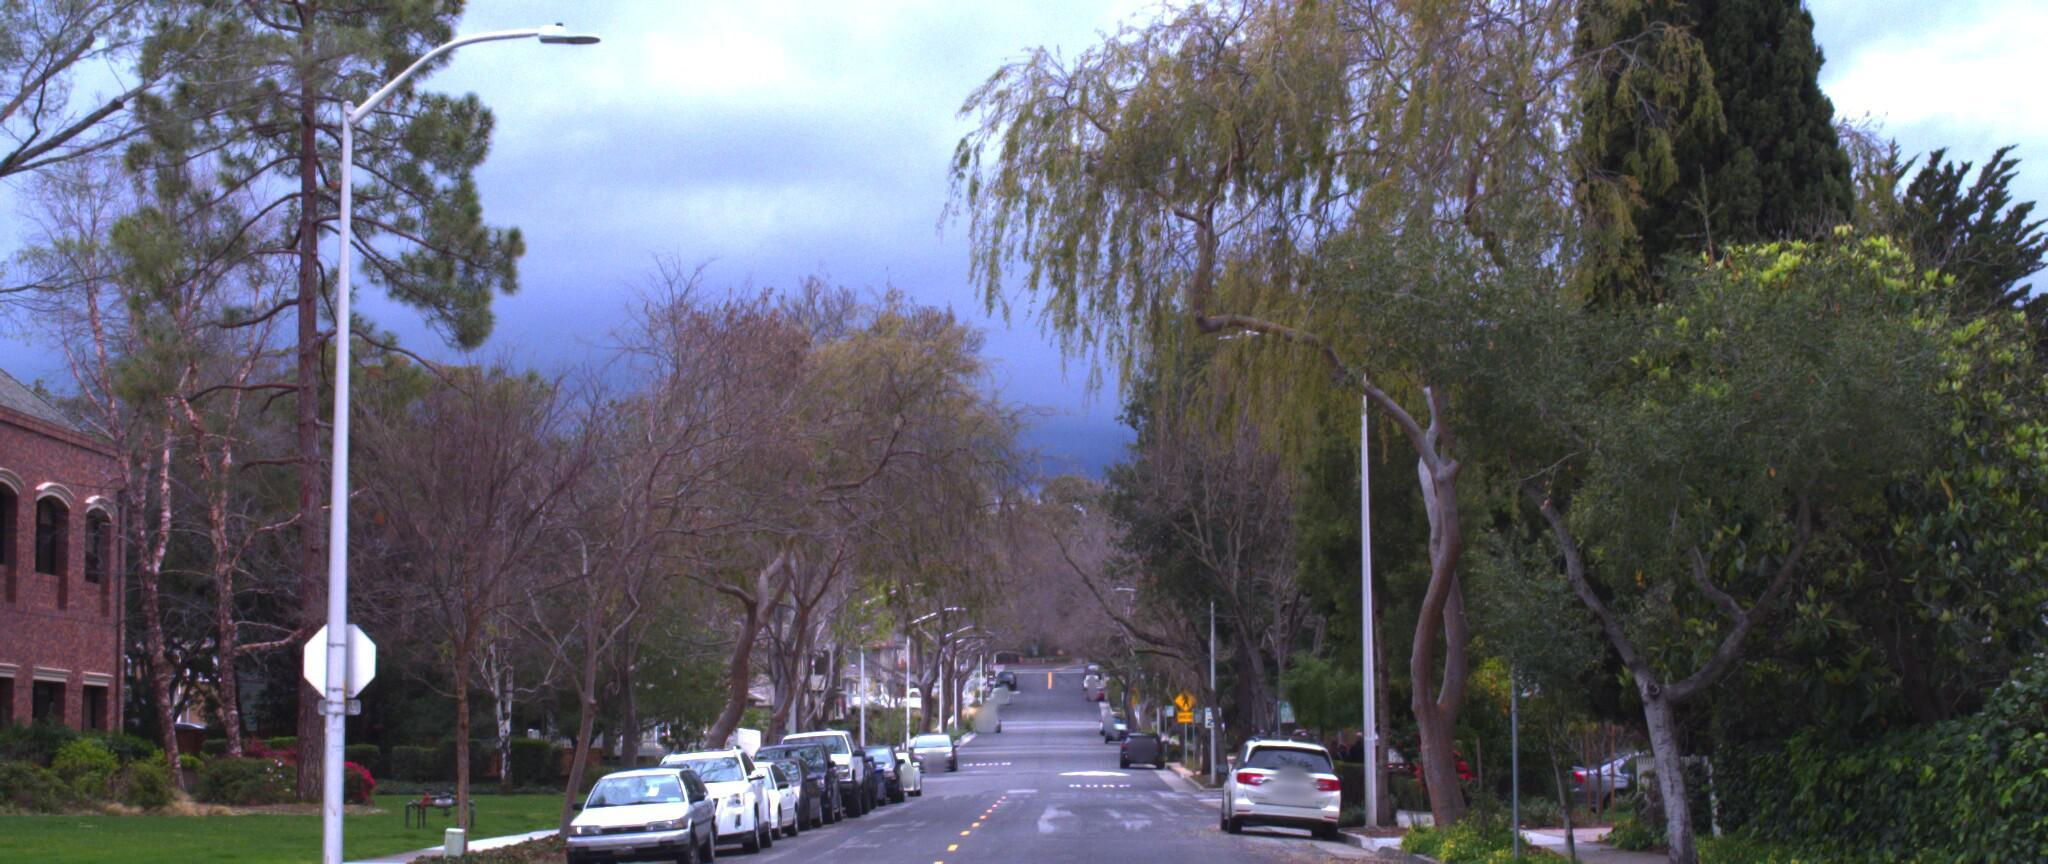car: (636, 744, 789, 859), (568, 765, 728, 864), (1223, 728, 1353, 841), (765, 728, 883, 824)
